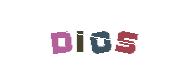1: (54, 0, 134, 80)
D: (28, 0, 108, 80)
O: (55, 0, 135, 80)
S: (86, 0, 166, 80)
